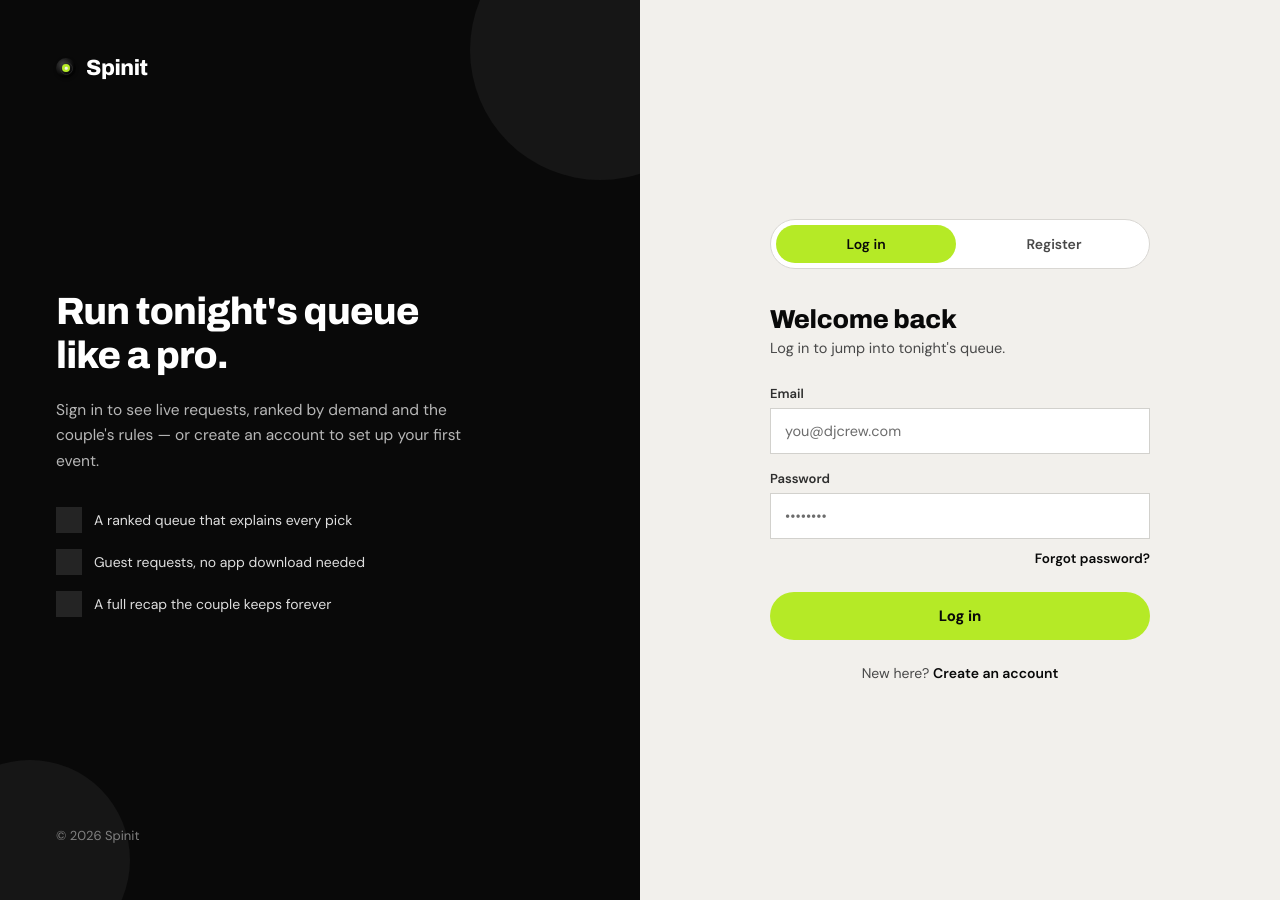
Scenario: AuthScreen › switches to register mode via the inline "Create an account" control at the foot of the login form
This screenshot has width=1280, height=900.
Click the button "Create an account". click: (996, 672)
box: [933, 664, 1058, 682]
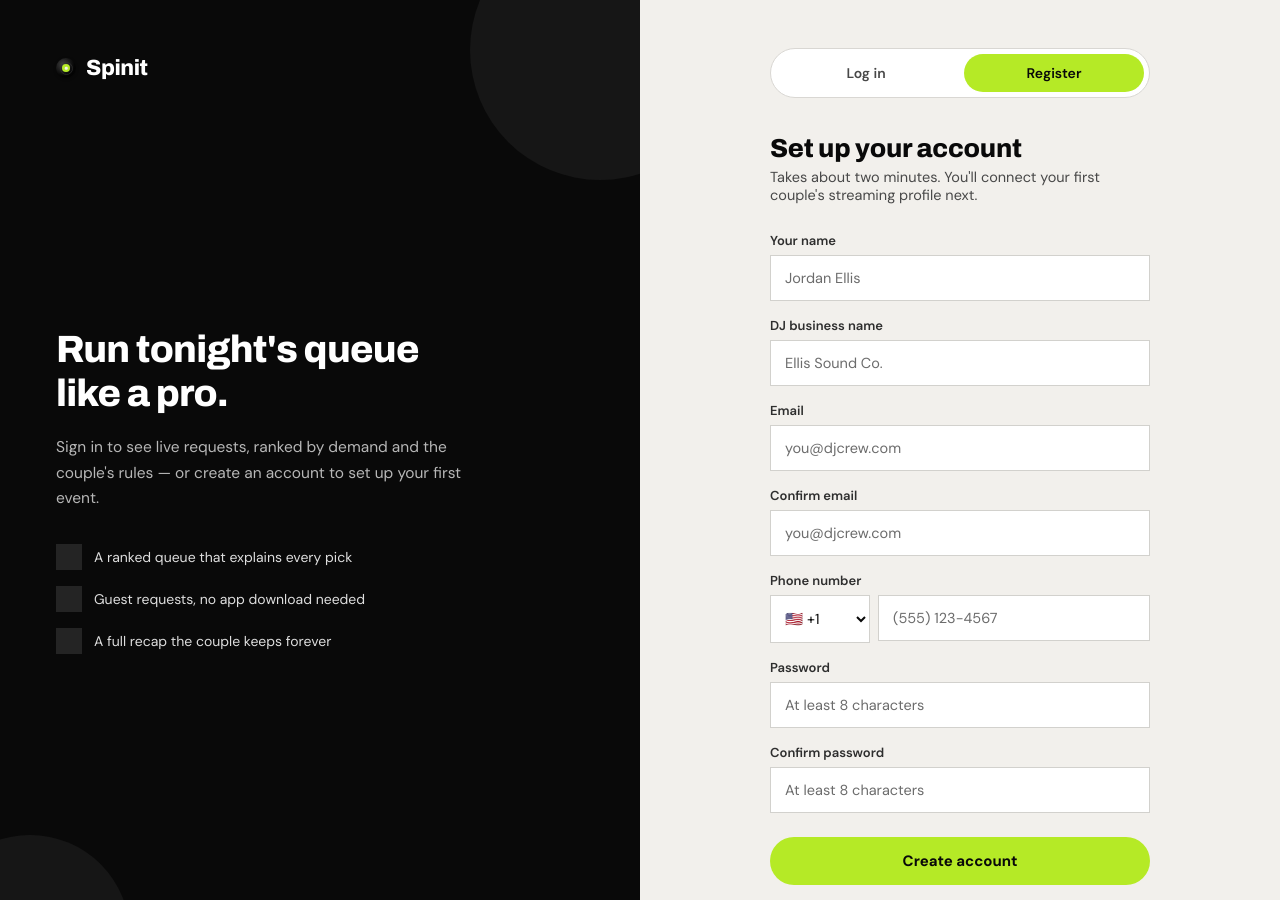
Now the field labelled "Your name" is shown, box [770, 255, 1150, 301]
Now the field labelled "DJ business name" is shown, box [770, 340, 1150, 386]
Now the password field labelled "Confirm password" is shown, box [770, 767, 1150, 813]
